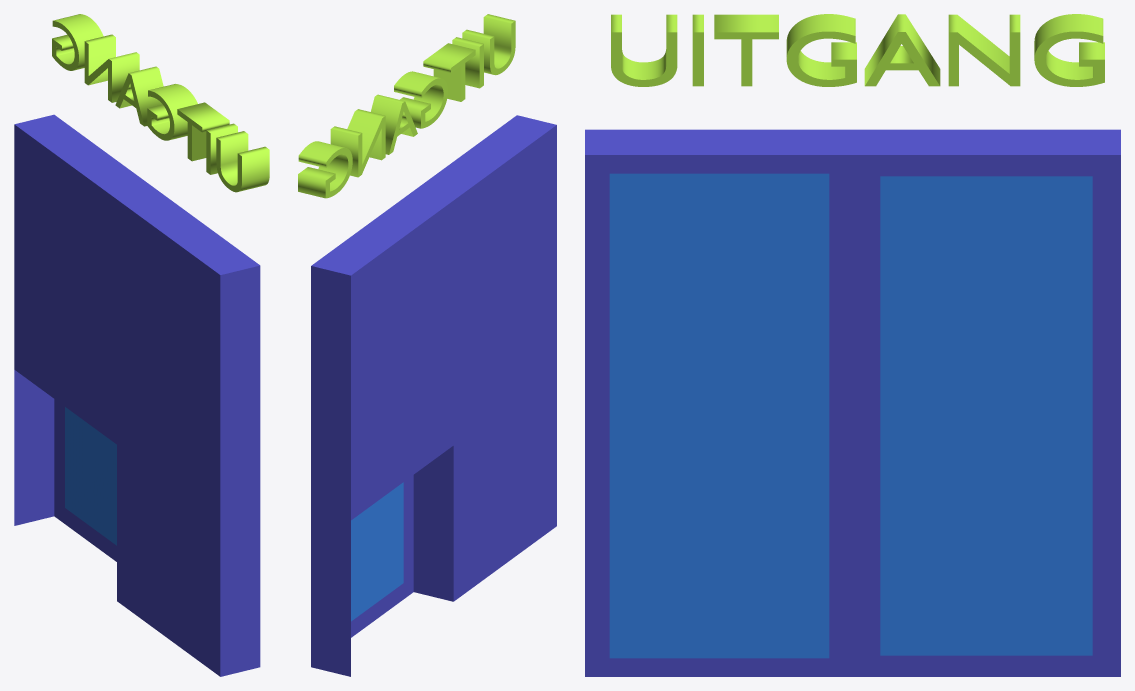
File: uitgang.gltf
The picture shows the model from 3 angles, left to right: view 1: azimuth 30°, elevation 25°; view 2: azimuth 150°, elevation 25°; view 3: azimuth 270°, elevation 25°; orthographic projection. The views are drawn at different scales.
Parts seen in each view (by area): view 1: Cube, Text.001; view 2: Cube, Text.001; view 3: Cube, Text.001.
Boxes of the visible parts, x1=… form: Cube: x1=14, y1=114, x2=260, y2=676; Text.001: x1=52, y1=14, x2=269, y2=192; Cube: x1=311, y1=115, x2=556, y2=676; Text.001: x1=298, y1=14, x2=515, y2=198; Cube: x1=585, y1=129, x2=1120, y2=676; Text.001: x1=611, y1=14, x2=1104, y2=86.
Bounding box in the file's own units: 0.7902 × 6.47 × 4.77.
